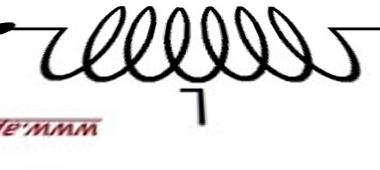inductor: (33, 0, 364, 92)
